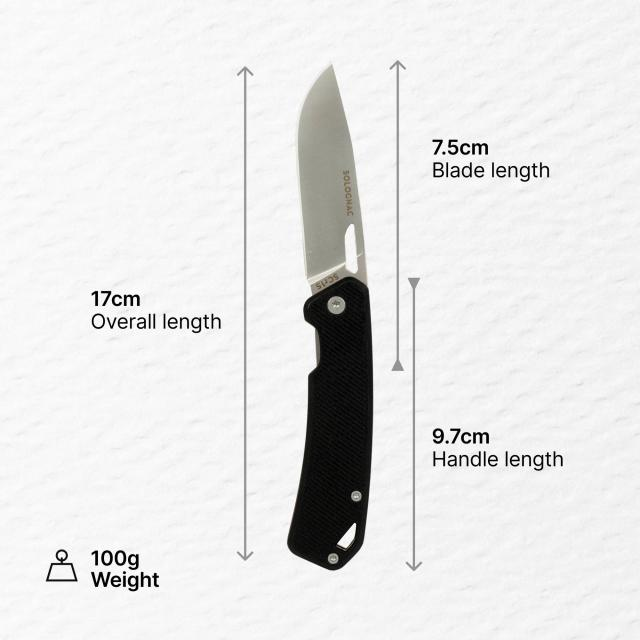Knife: (275, 54, 380, 576)
